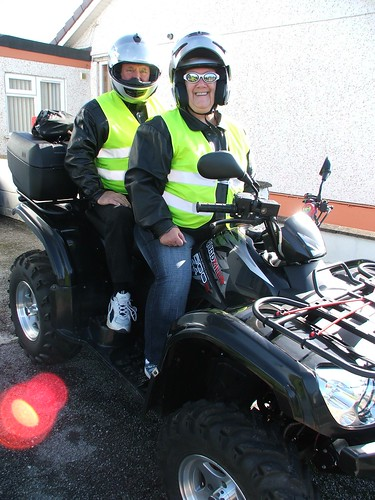helmet: (93, 26, 164, 103), (167, 23, 234, 65)
